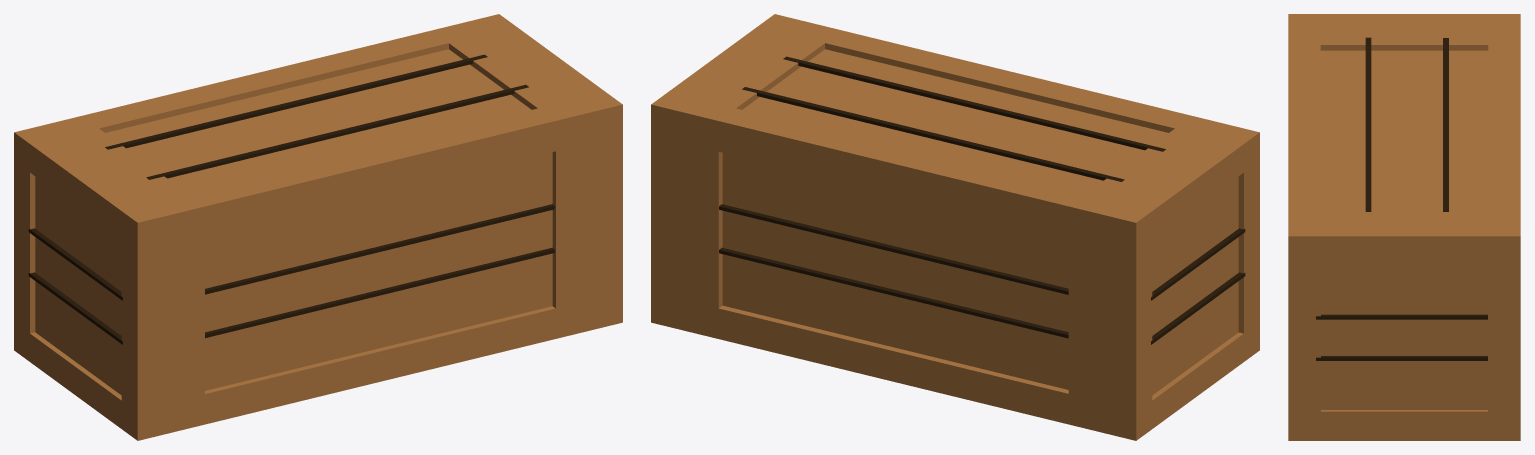
File: Wooden Box 2.fbx
The picture shows the model from 3 angles, left to right: view 1: azimuth 30°, elevation 25°; view 2: azimuth 150°, elevation 25°; view 3: azimuth 270°, elevation 25°; orthographic projection. The views are drawn at different scales.
Visible parts, largest first — view 1: Wooden Box.022; view 2: Wooden Box.022; view 3: Wooden Box.022.
Boxes of the visible parts, <box> form: Wooden Box.022: <box>14,14,622,440</box>; Wooden Box.022: <box>651,14,1259,440</box>; Wooden Box.022: <box>1288,14,1520,440</box>.
Bounding box in the file's own units: 325 × 140 × 143.
